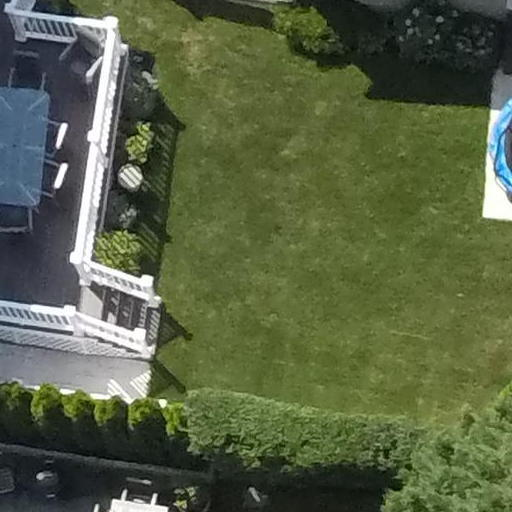porch: (1, 9, 185, 332)
